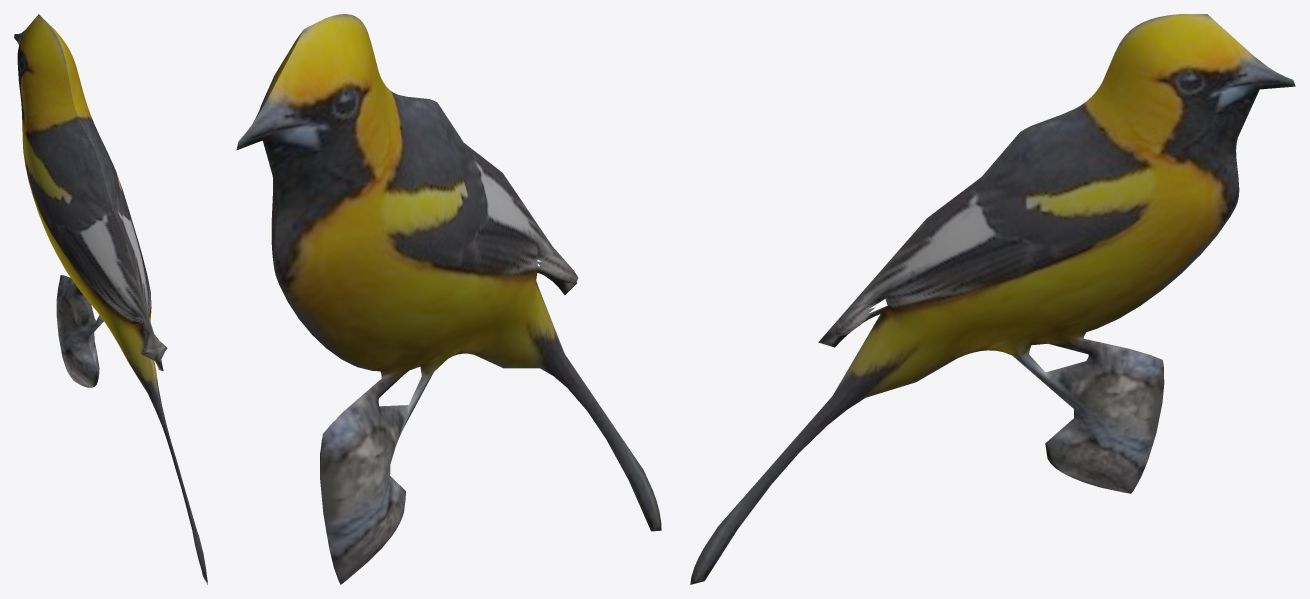
The picture shows the model from 3 angles, left to right: view 1: azimuth 30°, elevation 25°; view 2: azimuth 150°, elevation 25°; view 3: azimuth 270°, elevation 25°; orthographic projection. The views are drawn at different scales.
Visible parts, largest first — view 1: node1; view 2: node1; view 3: node1.
Boxes of the visible parts, bbox=[...] form: node1: bbox=[14, 14, 207, 584]; node1: bbox=[236, 14, 661, 584]; node1: bbox=[690, 14, 1295, 584].
Bounding box in the file's own units: 0.2277 × 1.28 × 1.2.
1 material, 1 textured.
